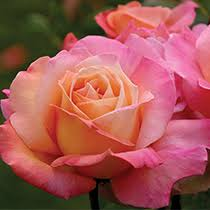rose: (15, 63, 188, 175)
